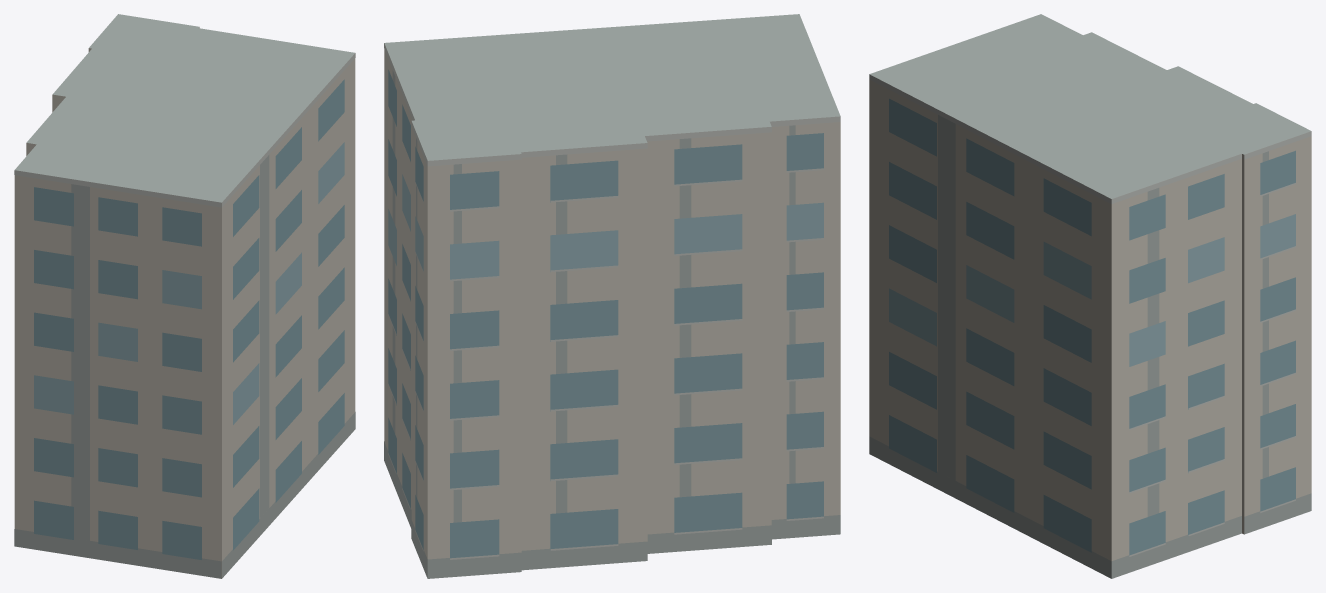
File: survey-upis-32954565.glb
3 views of the same model, side by side, from view 1: azimuth 30°, elevation 25°; view 2: azimuth 150°, elevation 25°; view 3: azimuth 270°, elevation 25° (orthographic). The views are drawn at different scales.
Parts seen in each view (by area): view 1: survey-upis-32954565.tmp; view 2: survey-upis-32954565.tmp; view 3: survey-upis-32954565.tmp.
Boxes of the visible parts, left/top/right/bottom form: survey-upis-32954565.tmp: left=14, top=14, right=355, bottom=578; survey-upis-32954565.tmp: left=384, top=14, right=840, bottom=578; survey-upis-32954565.tmp: left=869, top=14, right=1311, bottom=578.
Size of the model in its own units: 19.14 by 18.3 by 19.33.
